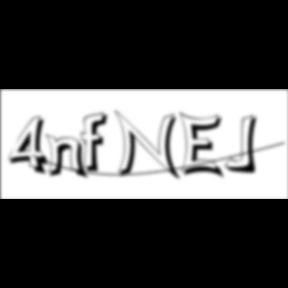4: (8, 115, 55, 179)
E: (180, 110, 228, 182)
J: (224, 114, 264, 176)
N: (115, 109, 185, 183)
f: (80, 111, 114, 175)
n: (46, 132, 92, 181)
